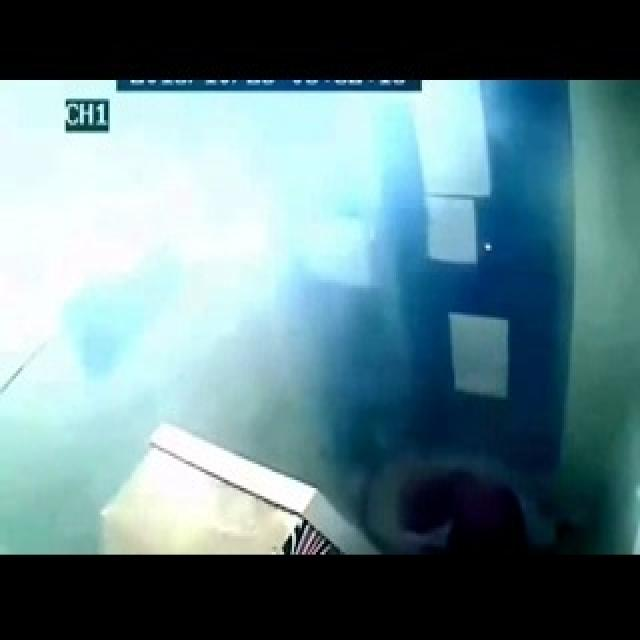thief: (402, 462, 528, 549)
